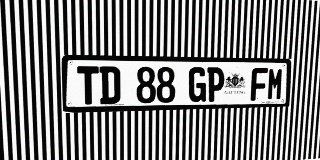8: (136, 67, 156, 103), (156, 67, 176, 103)
D: (99, 66, 120, 104)
F: (250, 68, 268, 101)
G: (188, 67, 207, 102)
M: (267, 68, 284, 100)
P: (206, 67, 225, 102)
T: (77, 66, 99, 105)
